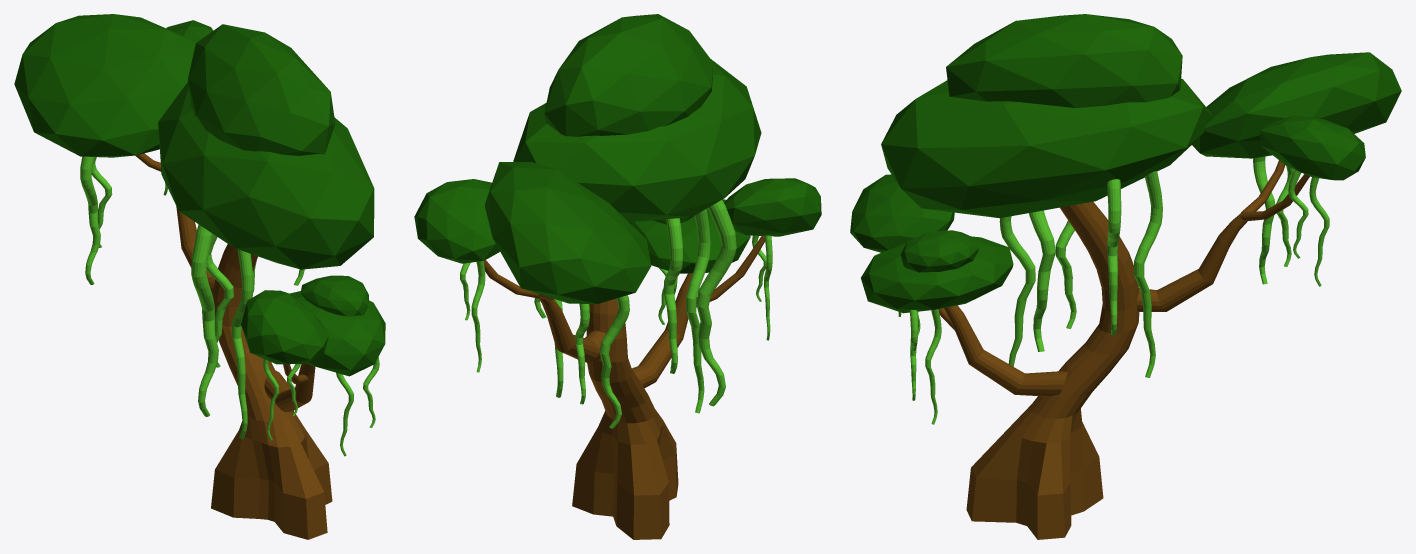
The model's file is Tree_Jungle.fbx.
The picture shows the model from 3 angles, left to right: view 1: azimuth 30°, elevation 25°; view 2: azimuth 150°, elevation 25°; view 3: azimuth 270°, elevation 25°; orthographic projection. The views are drawn at different scales.
Visible parts, largest first — view 1: Leaves, Trunk, Vines; view 2: Leaves, Trunk, Vines; view 3: Leaves, Trunk, Vines.
Part boxes in pixels (x1,y1,x2,y2): Leaves: (14, 14, 385, 376); Trunk: (135, 153, 332, 539); Vines: (80, 156, 379, 456); Leaves: (414, 14, 821, 303); Trunk: (484, 236, 765, 539); Vines: (460, 200, 772, 428); Leaves: (850, 14, 1401, 313); Trunk: (938, 160, 1309, 539); Vines: (898, 156, 1329, 424).
Size of the model in its own units: 815 by 1856 by 1875.
